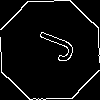J: (25, 25, 77, 65)
